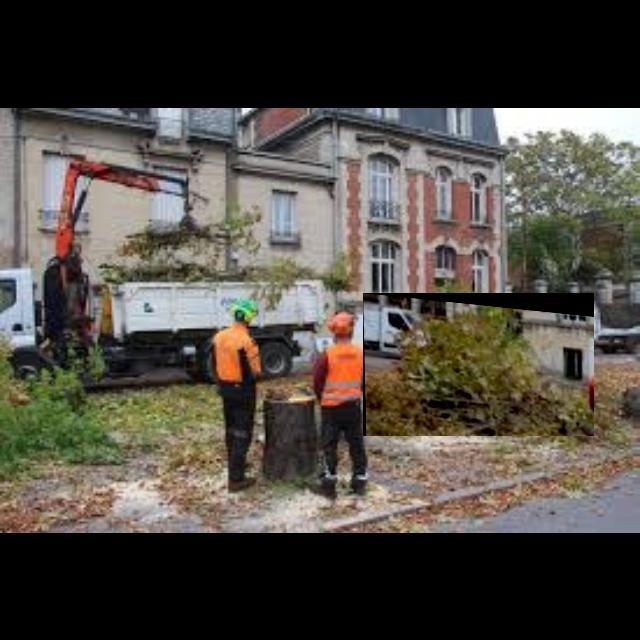fallen_tree: (363, 293, 595, 437)
